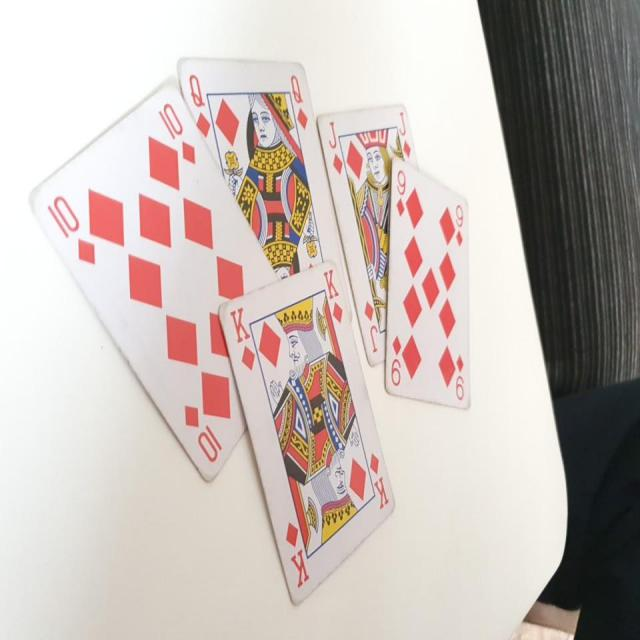10 Diamonds: (29, 80, 280, 484)
9 Diamonds: (383, 151, 474, 408)
J Diamonds: (316, 99, 413, 366)
K Diamonds: (218, 260, 396, 606)
Q Diamonds: (178, 55, 355, 320)
